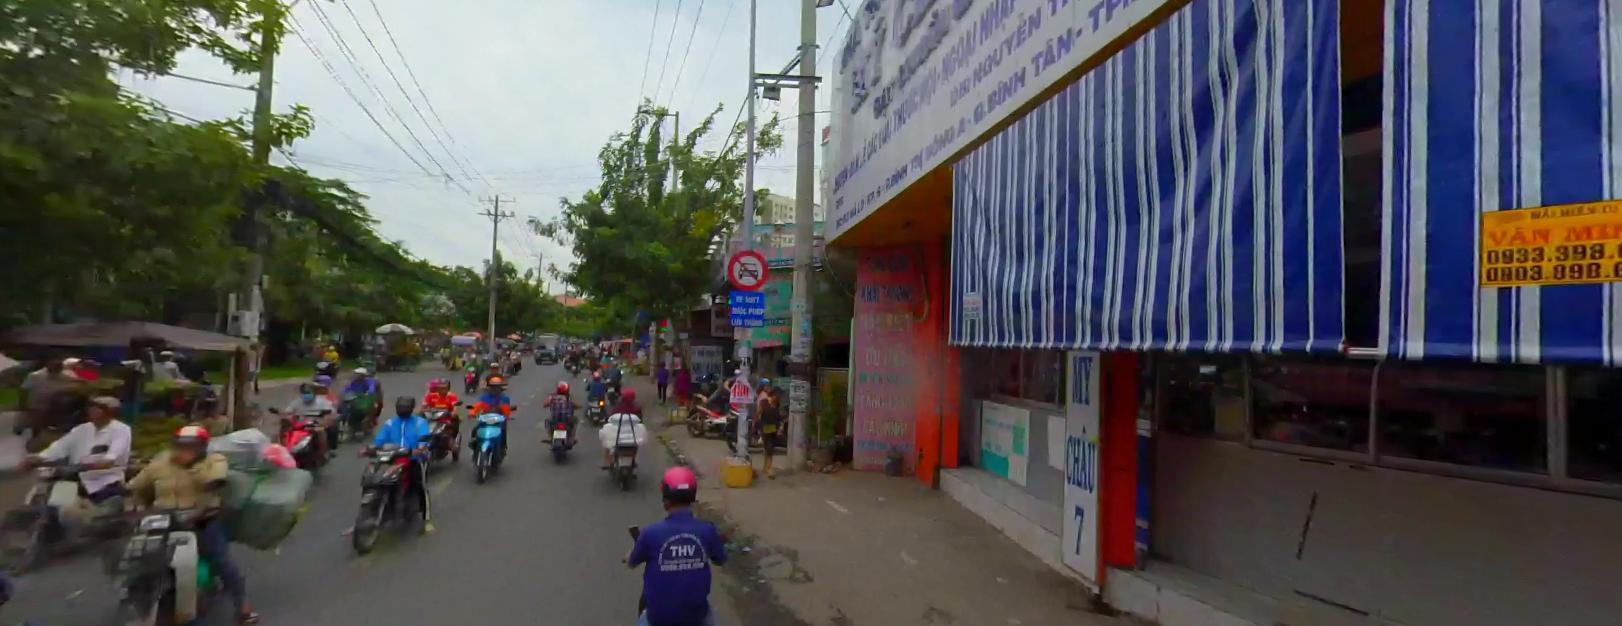Cam con lai: (726, 248, 769, 291)
